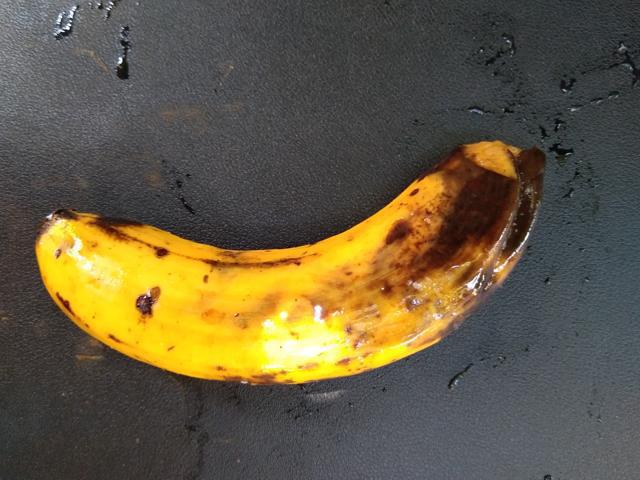overripe: (20, 191, 370, 405)
rotten: (301, 108, 560, 410)
